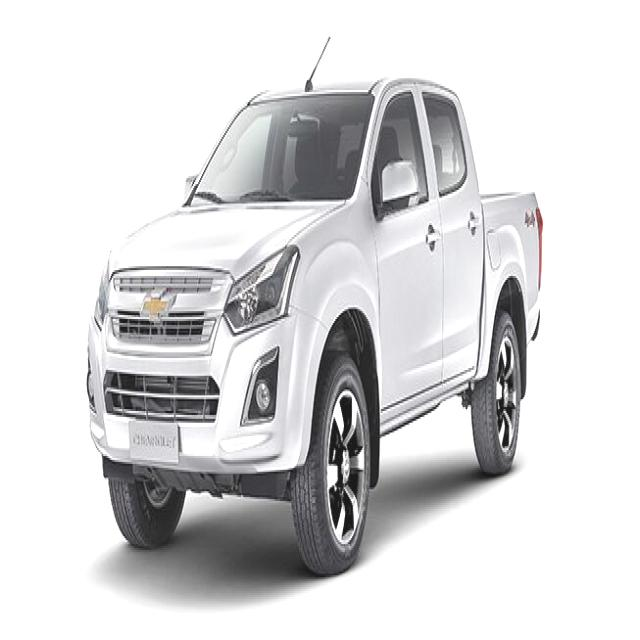CMT: (80, 75, 541, 576)
